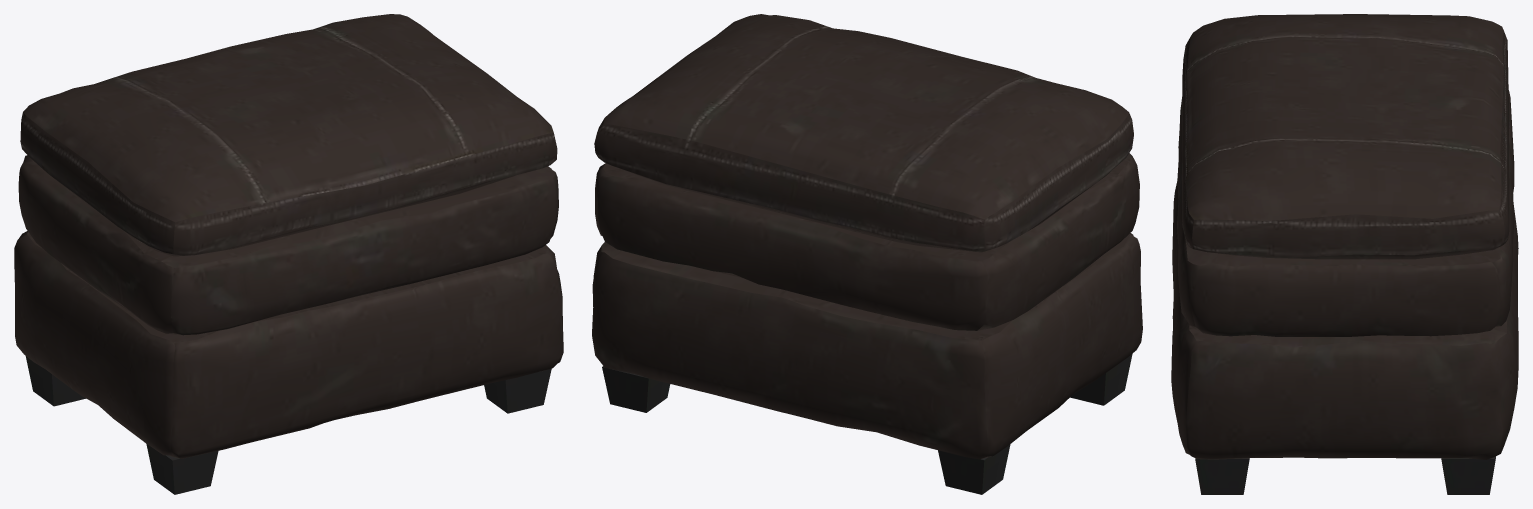
File: Ottoman_01.glb
3 views of the same model, side by side, from view 1: azimuth 30°, elevation 25°; view 2: azimuth 150°, elevation 25°; view 3: azimuth 270°, elevation 25° (orthographic).
Parts seen in each view (by area): view 1: Ottoman_01; view 2: Ottoman_01; view 3: Ottoman_01.
Boxes of the visible parts, box(x1,y1,x2,y2) form: Ottoman_01: box(14, 14, 563, 494); Ottoman_01: box(592, 14, 1142, 494); Ottoman_01: box(1171, 14, 1518, 494).
Bounding box in the file's own units: 0.8842 × 0.6243 × 0.6212.
1 material, 1 textured.
